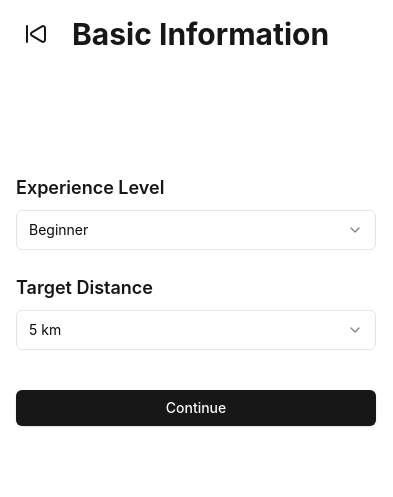
Scenario: RunningPage › navigates through steps
This screenshot has width=393, height=497.
Expected: the heading "Basic Information" is shown, top-left (72, 16), bottom-right (329, 52)
Expected: the text "Experience Level" is shown, top-left (16, 177), bottom-right (164, 198)
Note: Continue to goals step
Click the button "Continue" at (196, 408), box top-left (16, 390), bottom-right (376, 426)
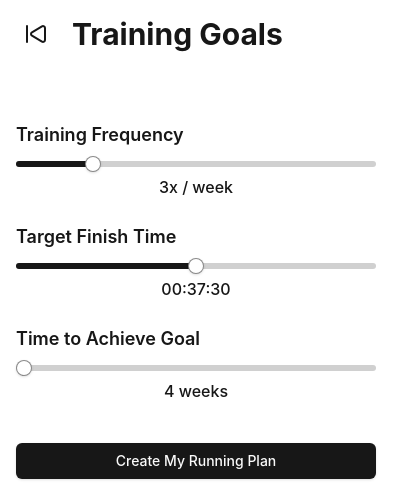
Now the heading "Training Goals" is shown, box top-left (72, 16), bottom-right (283, 52)
